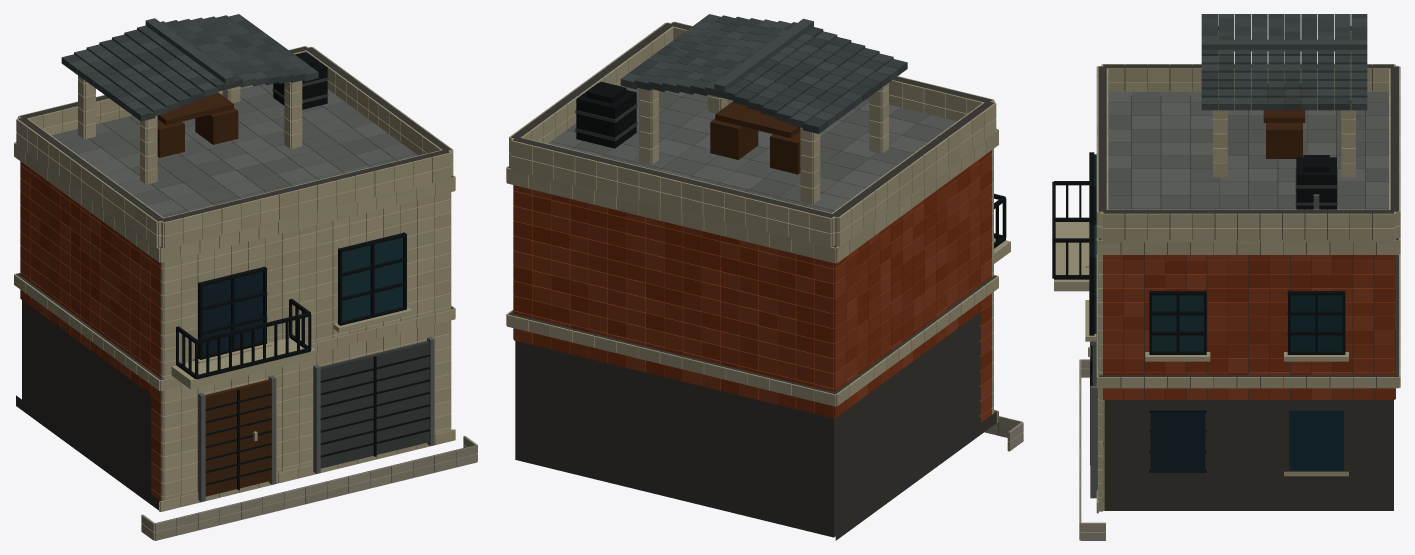
File: SM_StreetFrontage_039.fbx
3 views of the same model, side by side, from view 1: azimuth 30°, elevation 25°; view 2: azimuth 150°, elevation 25°; view 3: azimuth 270°, elevation 25° (orthographic). The views are drawn at different scales.
Visible parts, largest first — view 1: SM_StreetFrontage_039; view 2: SM_StreetFrontage_039; view 3: SM_StreetFrontage_039.
Part boxes in pixels (<box>): SM_StreetFrontage_039: <box>14,14,477,540</box>; SM_StreetFrontage_039: <box>506,14,1023,540</box>; SM_StreetFrontage_039: <box>1052,14,1400,540</box>.
Bounding box in the file's own units: 8 × 7.17 × 9.15.
